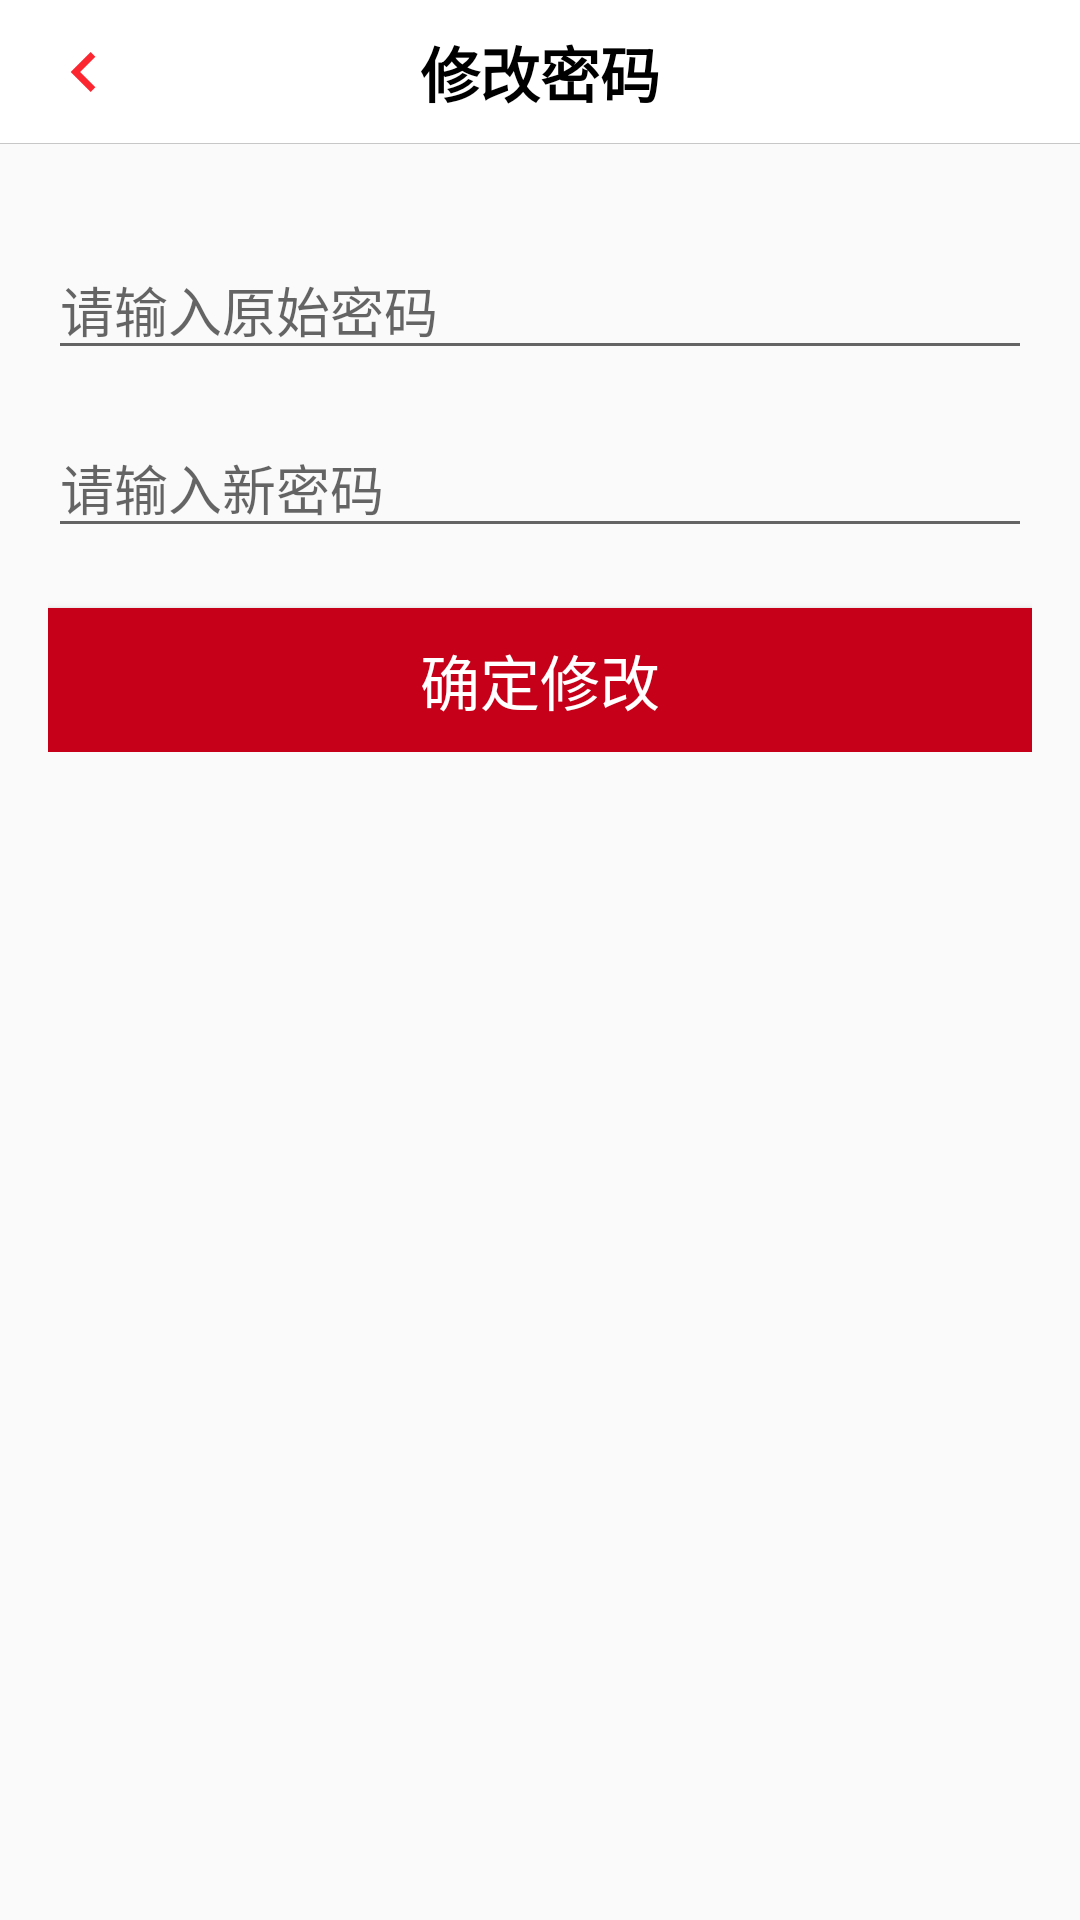

Named icons in this screenshot (1080w x 1920h) and their centers, point (x, y):
back: point (83, 72)
